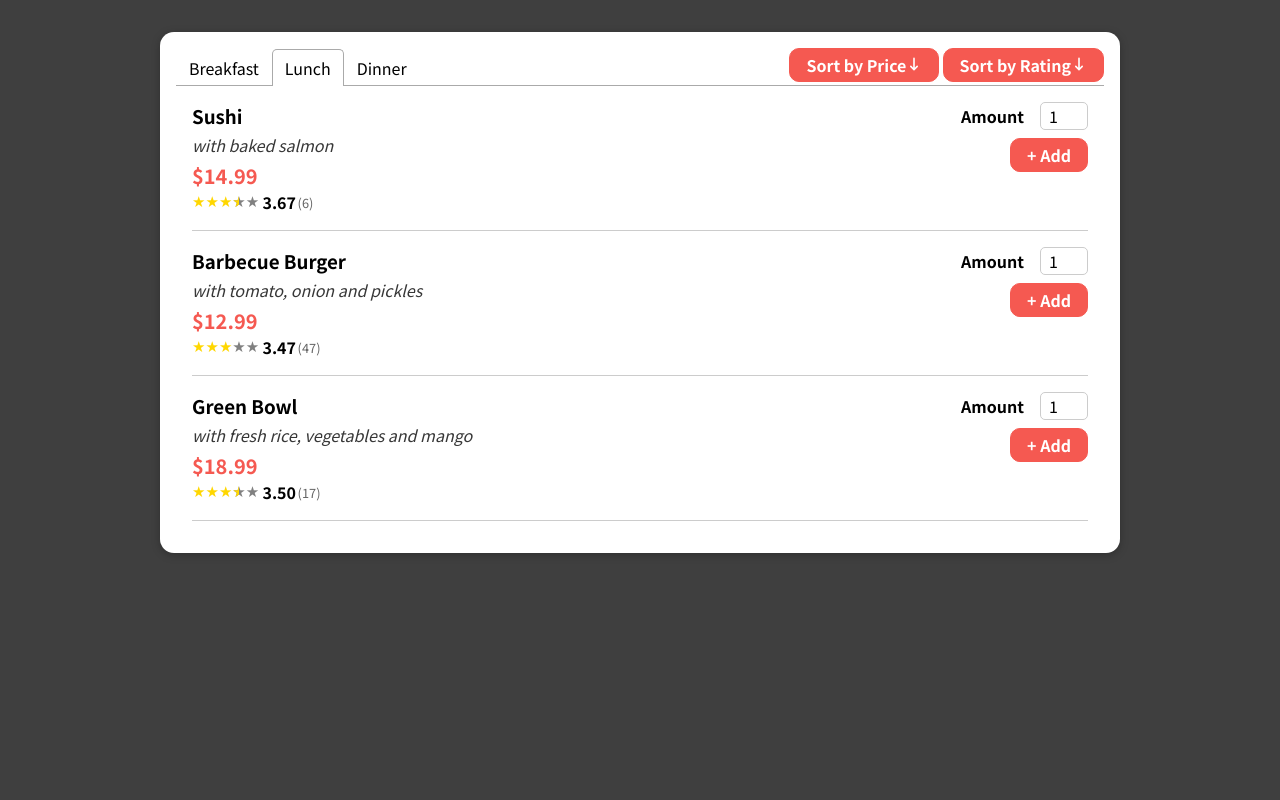
Meals component › Test if modal is opening after clicking the stars
Click the element with test id "star-rating" showing "★ ★ ★ ★ ★ 3.67 (6)" at (263, 202), box [192,190,333,214]
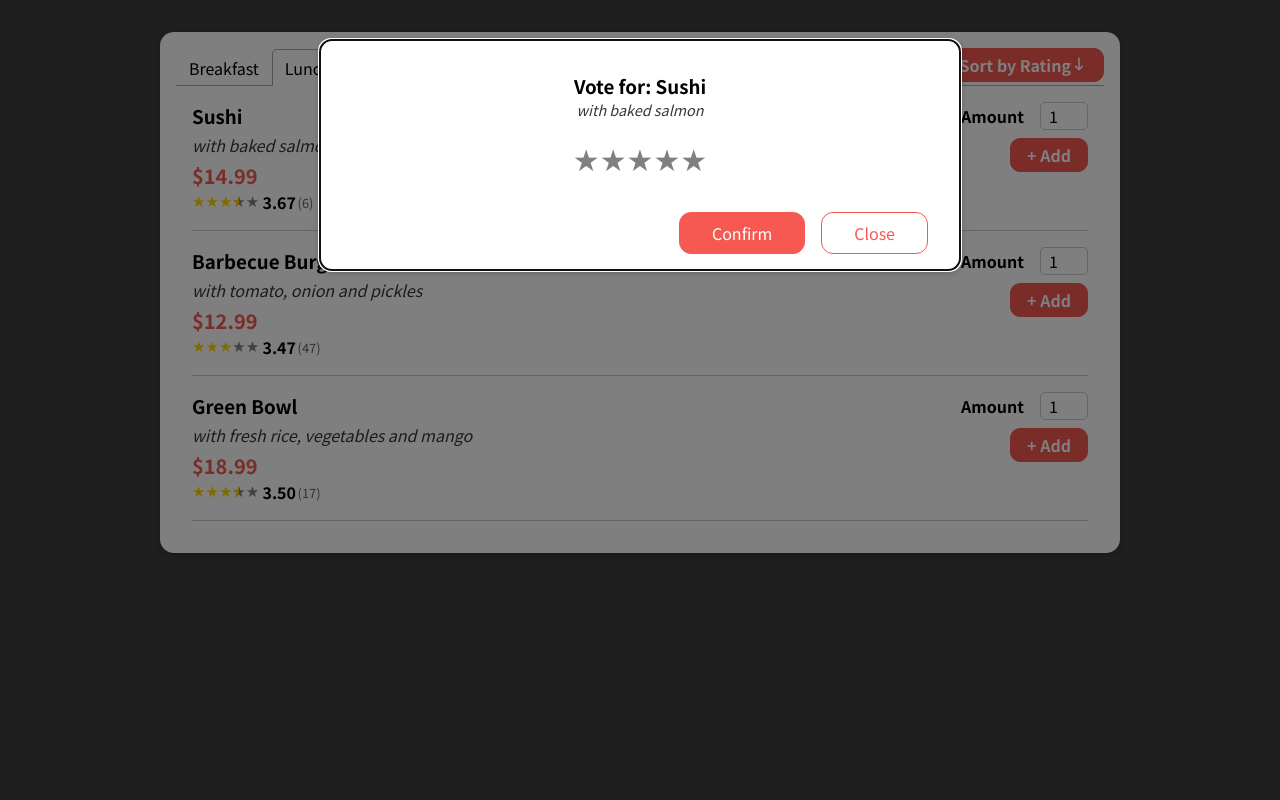
expect the element with test id "rating-modal" is shown: met
